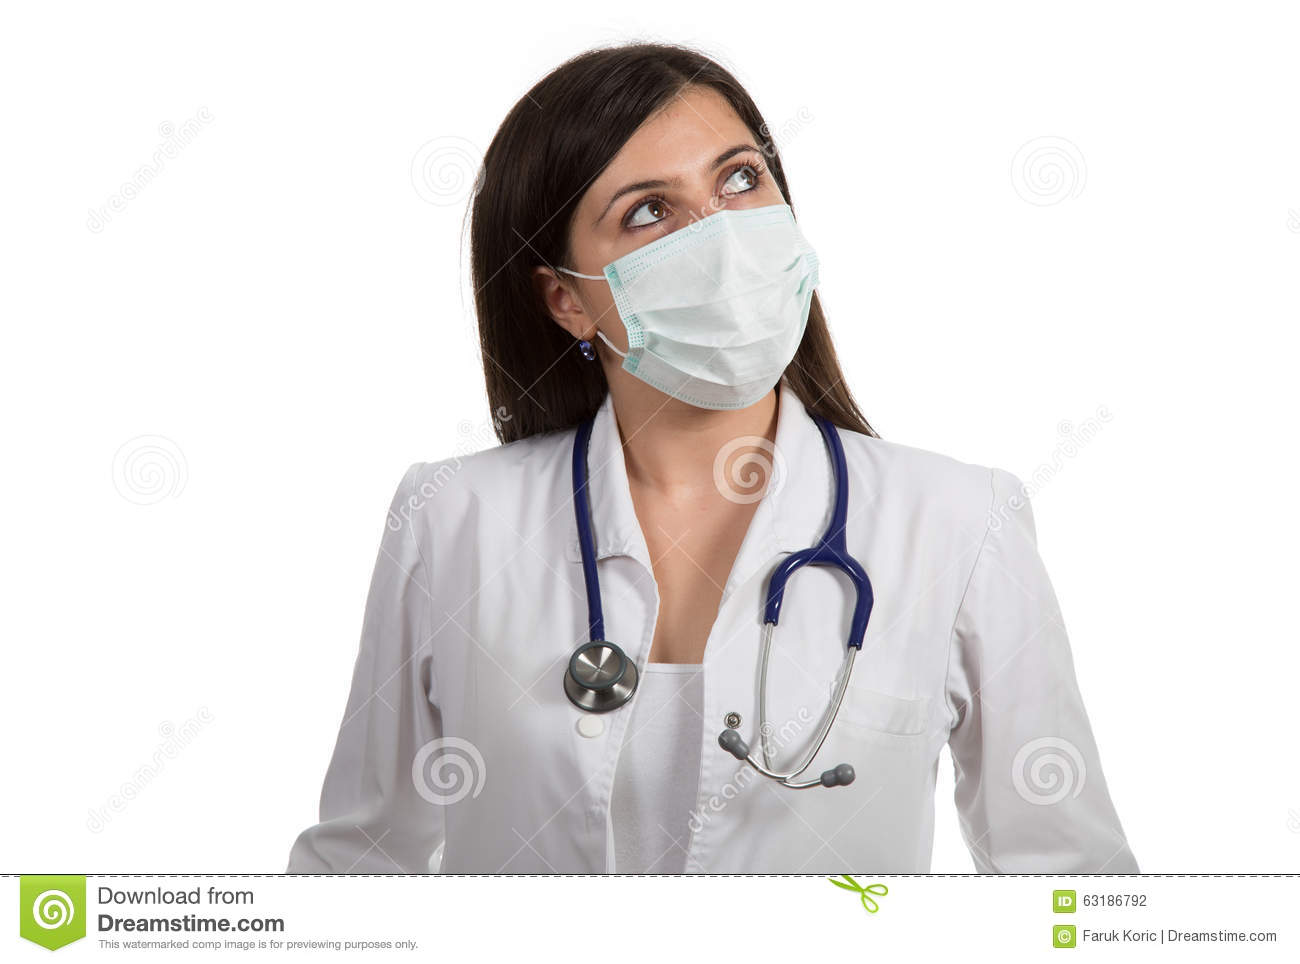mask: (594, 209, 841, 398)
